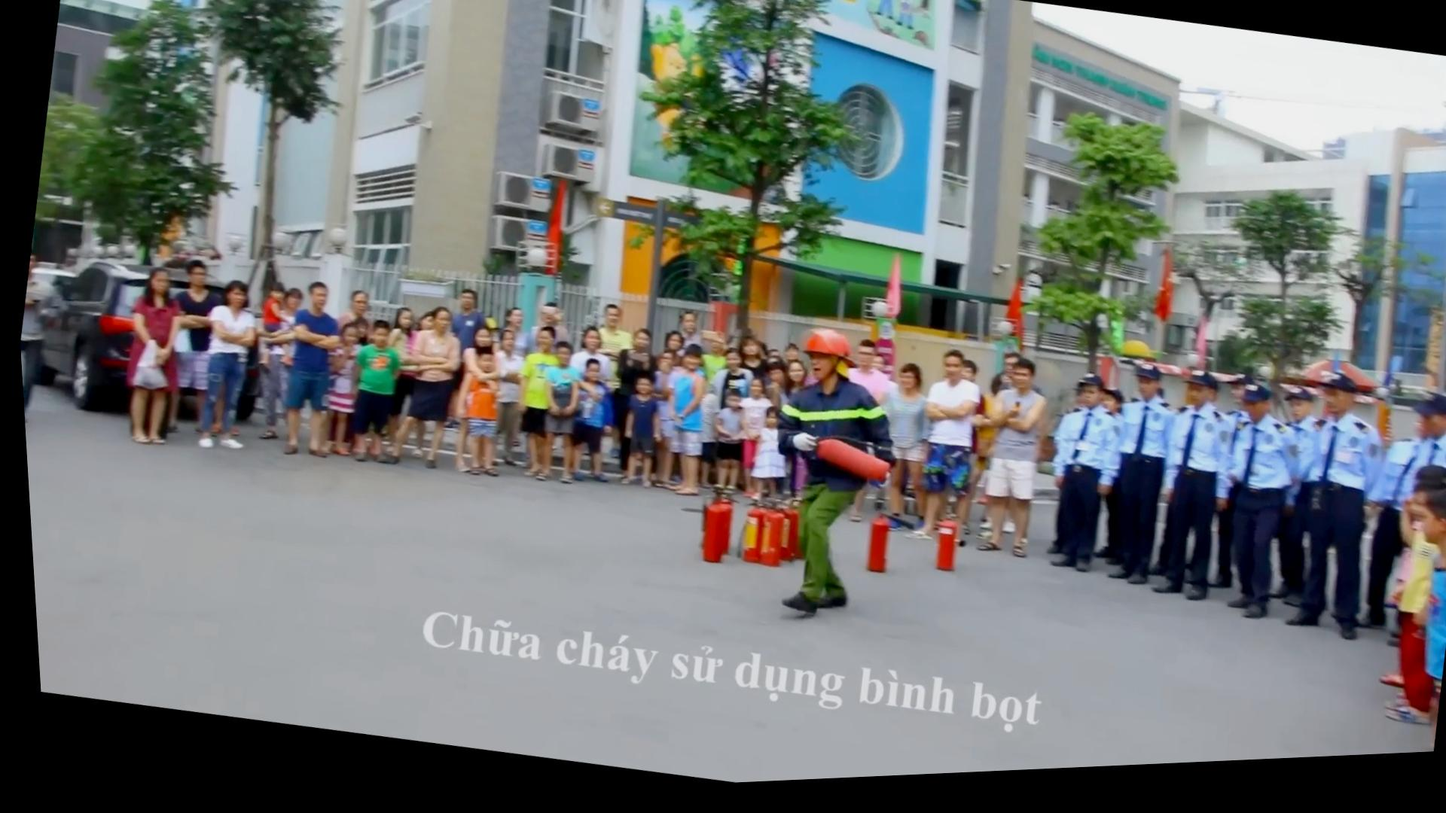FireExtinguisher: (799, 435, 896, 503), (683, 501, 738, 581), (726, 512, 784, 581), (918, 517, 965, 591), (850, 513, 895, 586), (765, 505, 803, 569)
